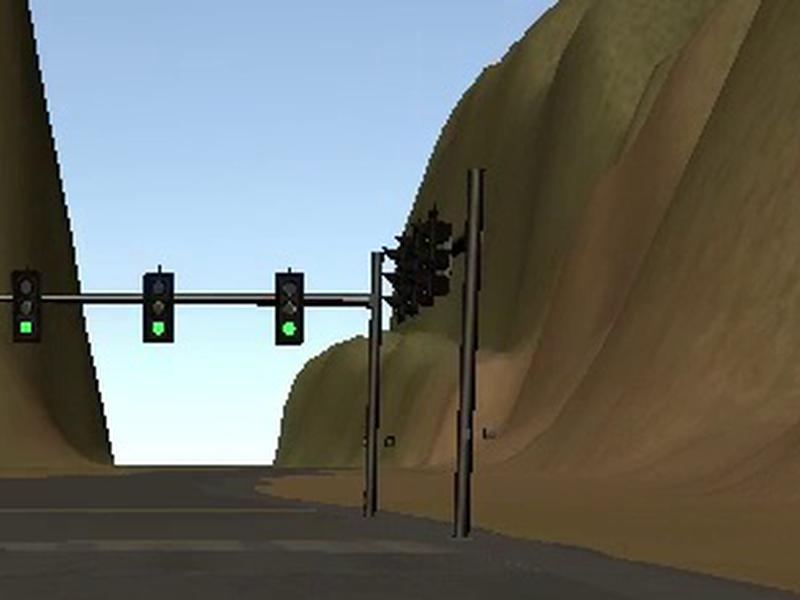Green: (11, 271, 42, 343), (274, 271, 304, 345), (143, 273, 174, 343)
